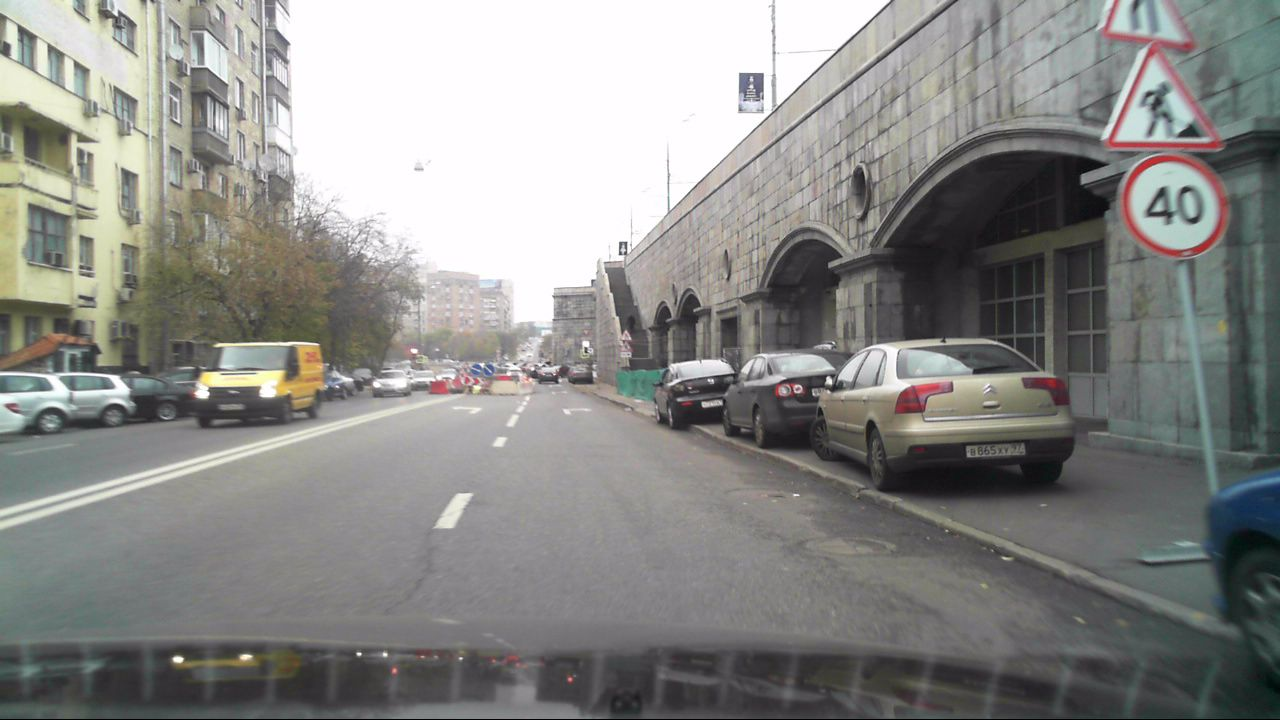speed_warning_40: (1120, 146, 1231, 259)
